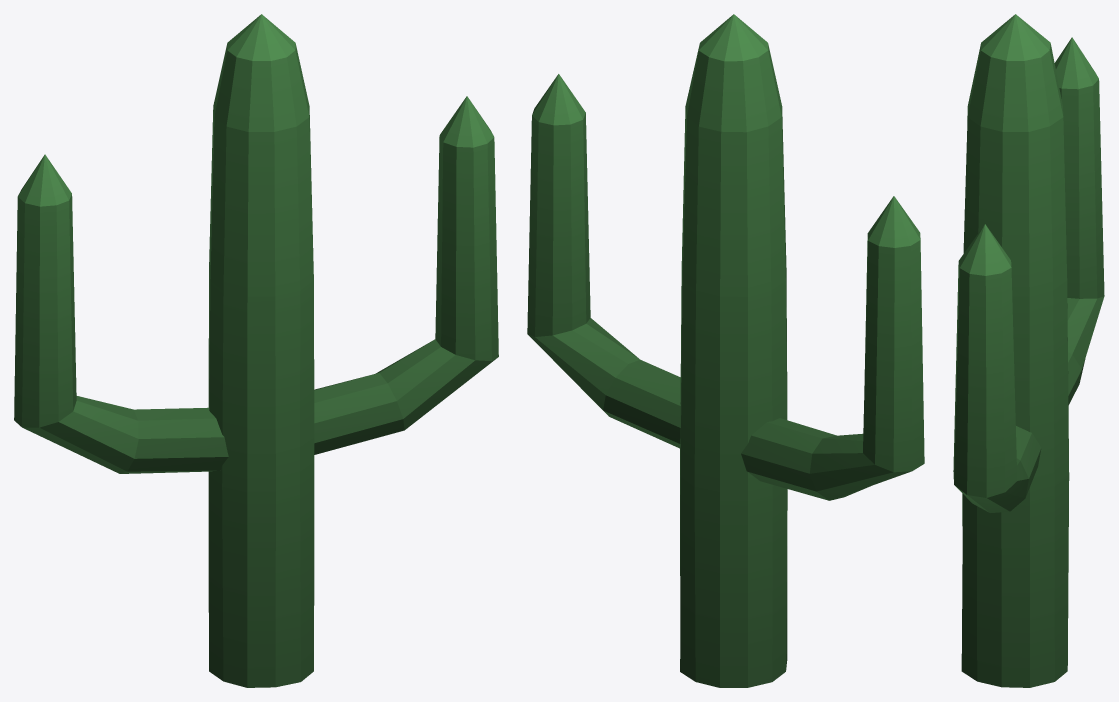
File: cactus_saguaro_01.fbx
3 views of the same model, side by side, from view 1: azimuth 30°, elevation 25°; view 2: azimuth 150°, elevation 25°; view 3: azimuth 270°, elevation 25° (orthographic).
Parts seen in each view (by area): view 1: cactus_saguaro_01_LOD0; view 2: cactus_saguaro_01_LOD0; view 3: cactus_saguaro_01_LOD0.
Part boxes in pixels (x1,y1,x2,y2): cactus_saguaro_01_LOD0: [14, 14, 498, 687]; cactus_saguaro_01_LOD0: [527, 14, 924, 687]; cactus_saguaro_01_LOD0: [953, 14, 1104, 687].
Size of what is drawn, in the model's own units: 2.23 by 3.2 by 0.6725.
1 material, 1 textured.
